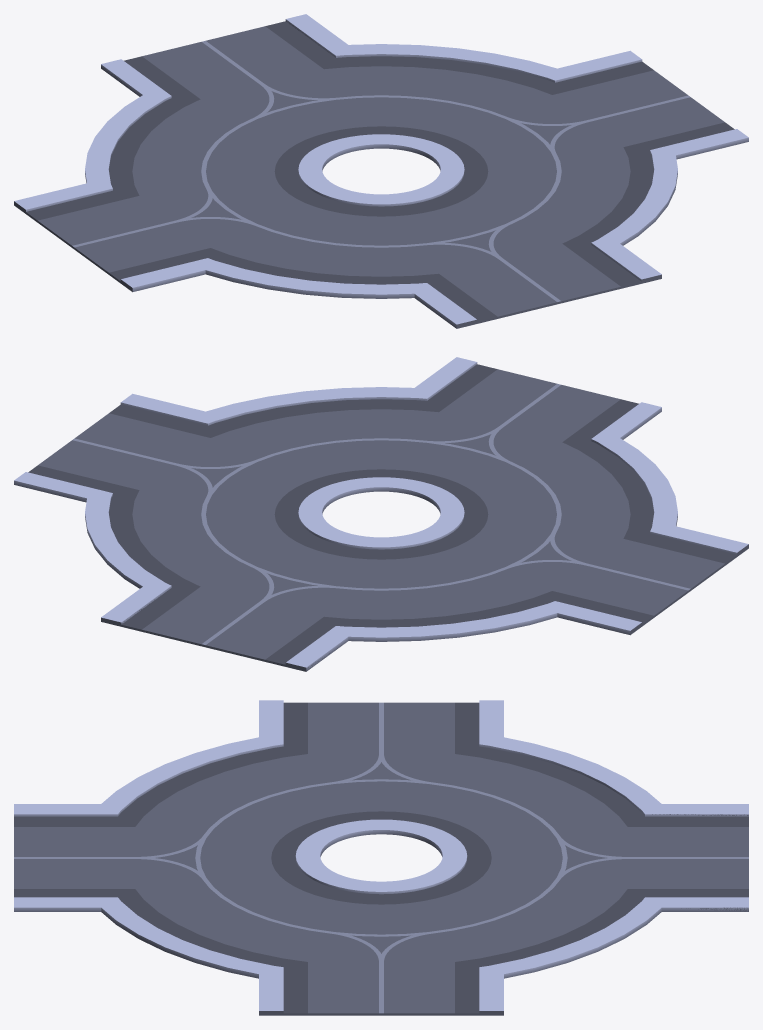
File: road-roundabout.glb
The picture shows the model from 3 angles, top to bottom: view 1: azimuth 30°, elevation 25°; view 2: azimuth 150°, elevation 25°; view 3: azimuth 270°, elevation 25°; orthographic projection. The views are drawn at different scales.
Parts seen in each view (by area): view 1: road-roundabout; view 2: road-roundabout; view 3: road-roundabout.
Boxes of the visible parts, <box> form: road-roundabout: <box>14,14,748,328</box>; road-roundabout: <box>14,357,748,671</box>; road-roundabout: <box>14,700,748,1015</box>.
Size of the model in its own units: 3 by 0.0201 by 3.
Materials: 1 (1 with a texture image).
